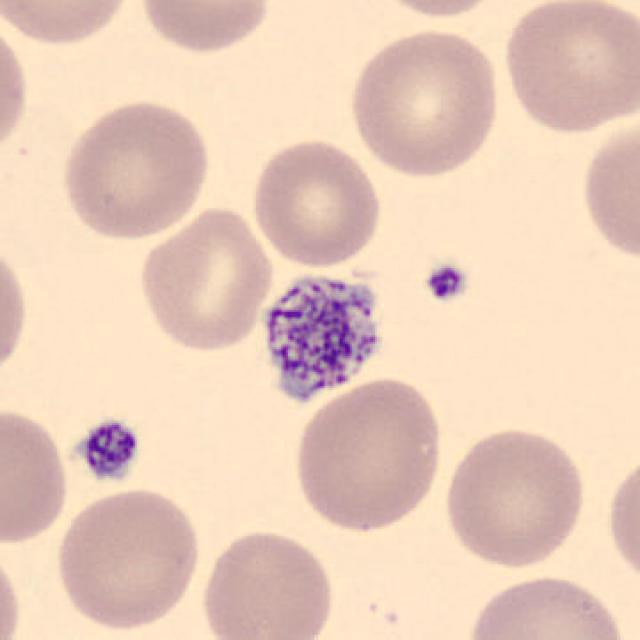Platelets: (253, 263, 391, 414), (75, 416, 142, 485), (421, 259, 471, 307)
RBC: (290, 374, 448, 536), (343, 23, 505, 180), (55, 94, 215, 244), (52, 485, 206, 633), (439, 422, 590, 572), (134, 203, 278, 356), (498, 0, 638, 138), (247, 134, 386, 270), (195, 523, 339, 640), (462, 569, 633, 640), (0, 402, 73, 548), (576, 111, 638, 266), (135, 0, 275, 56), (0, 0, 135, 49), (602, 446, 640, 594), (0, 233, 32, 388), (0, 12, 32, 166), (361, 0, 512, 21), (0, 541, 25, 640)
